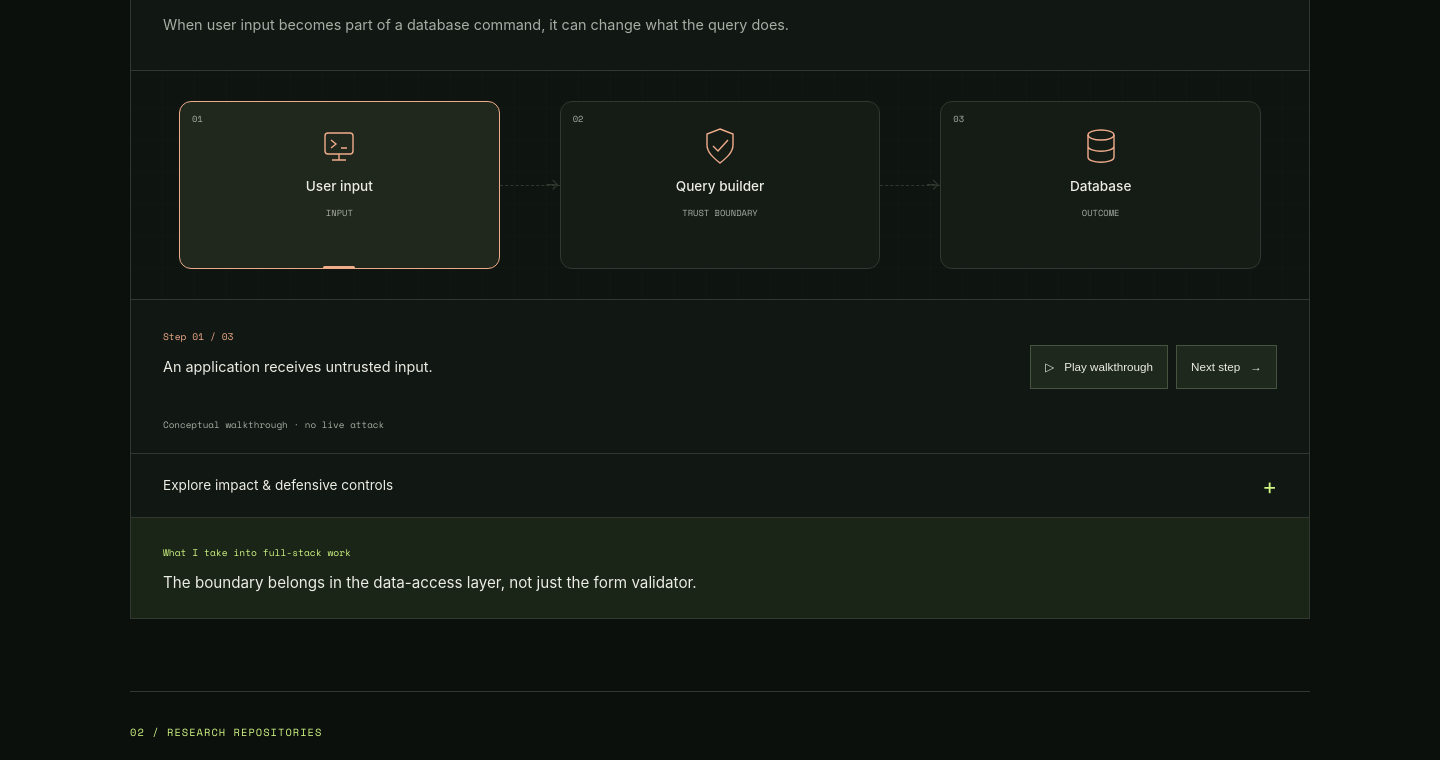
Test: playback can pause, reaches the final step, and replays
(page scrolled)
Click the button "▷ Play walkthrough". click: x=1099, y=367
box: [1030,345,1168,389]
Wait 2400 ms
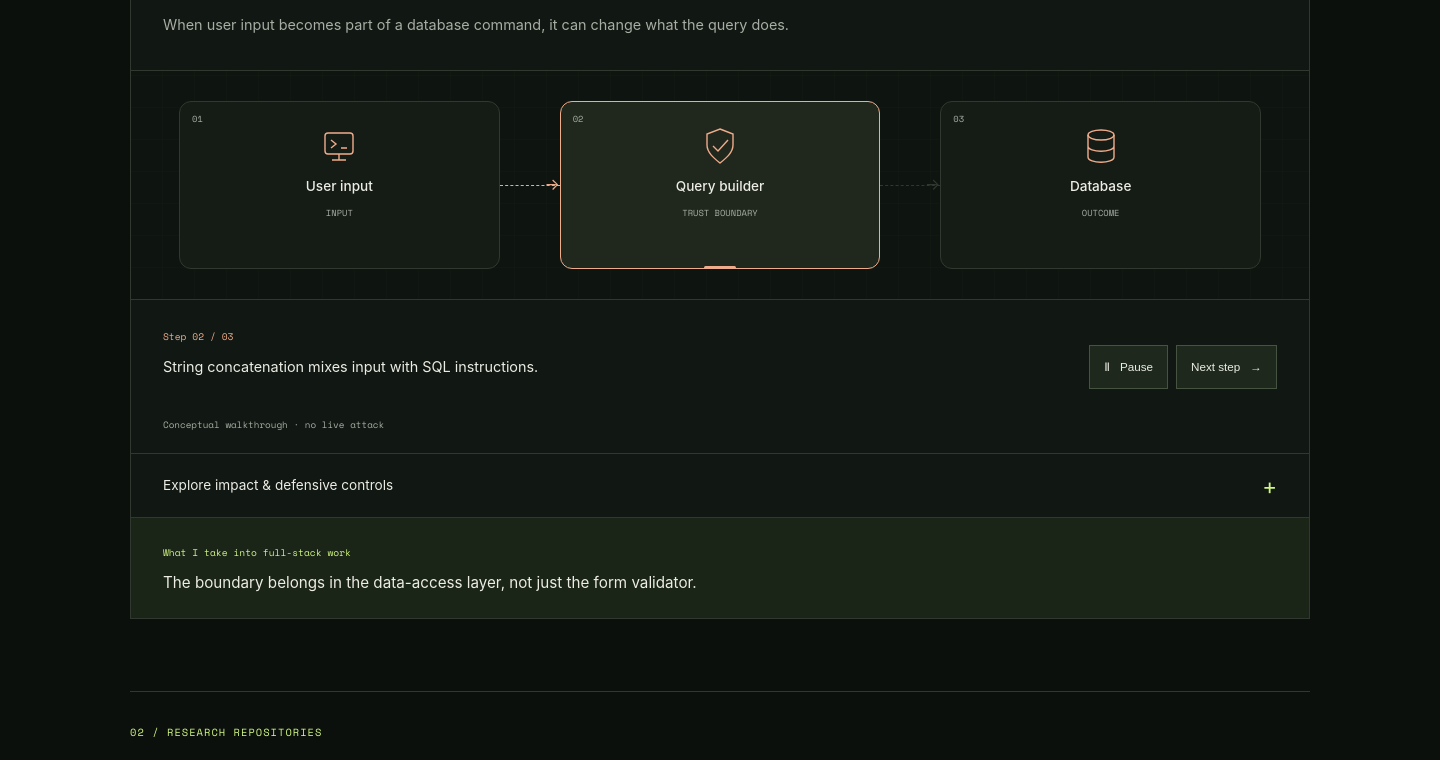
Click the button "Ⅱ Pause". click: x=1129, y=367
box: [1089,345,1168,389]
Wait 5000 ms
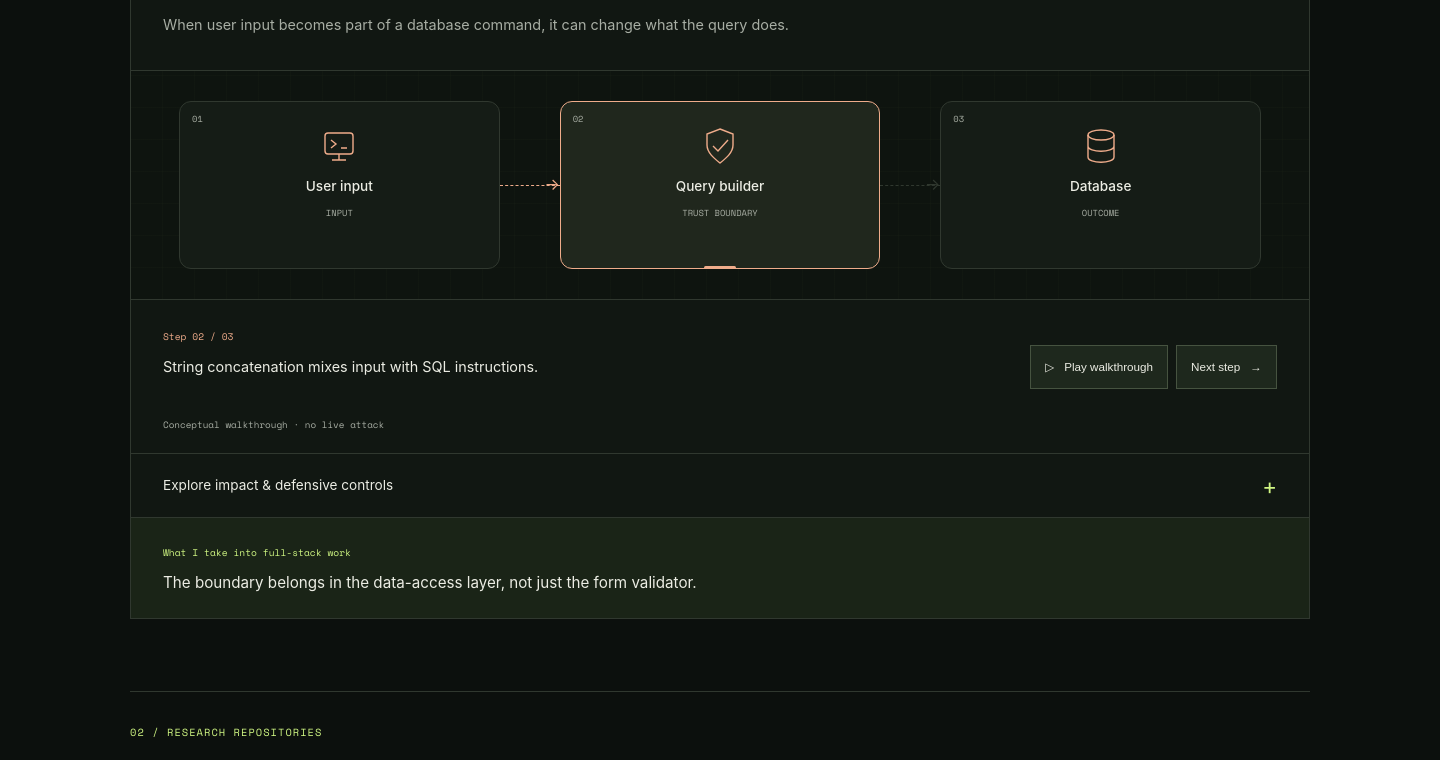
expect the text "Step 02 / 03" is shown: met, box [163,329,234,343]
Click the button "▷ Play walkthrough". click: x=1099, y=367
box: [1030,345,1168,389]
Wait 4800 ms
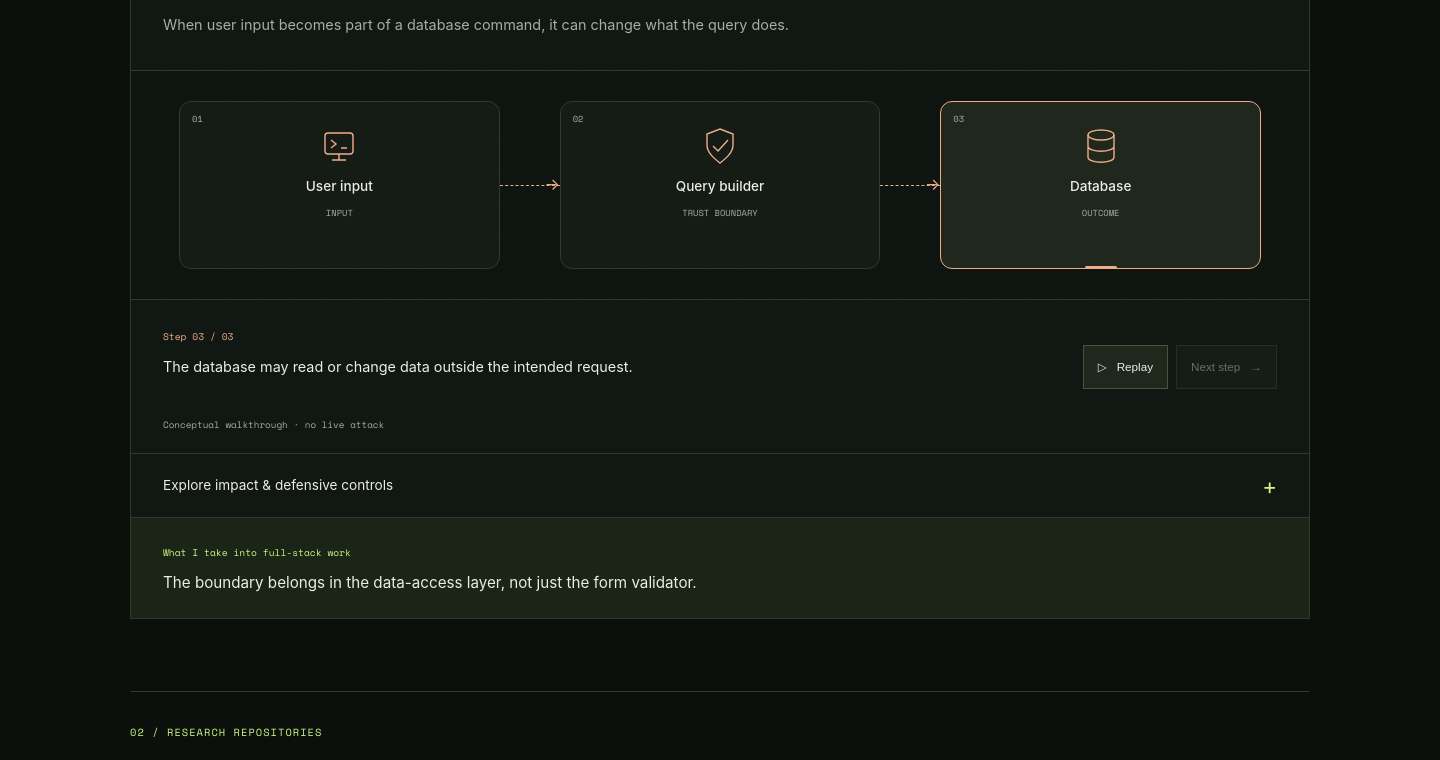
Click the button "▷ Replay". click: x=1125, y=367
box: [1083,345,1168,389]
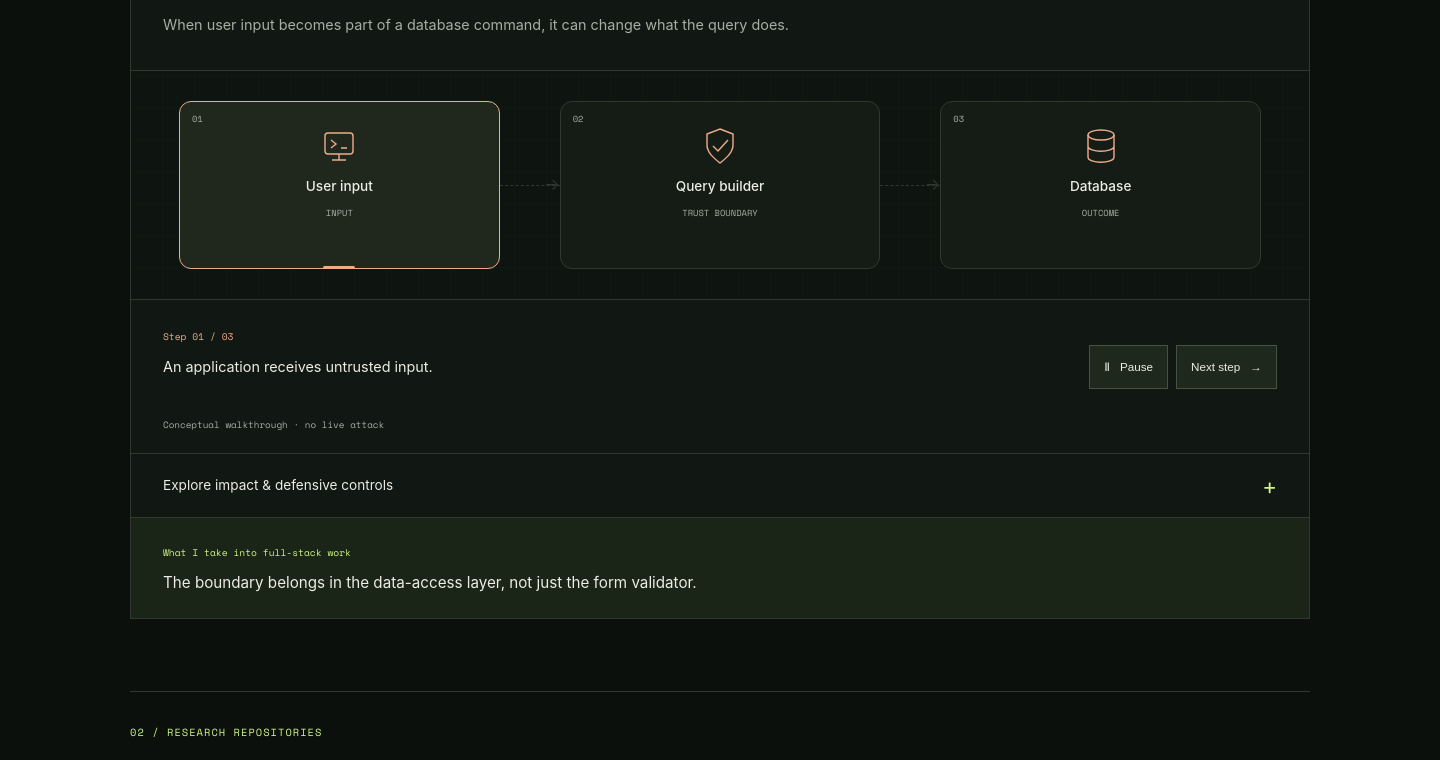
expect the text "Step 01 / 03" is shown: met, box [163,329,234,343]
